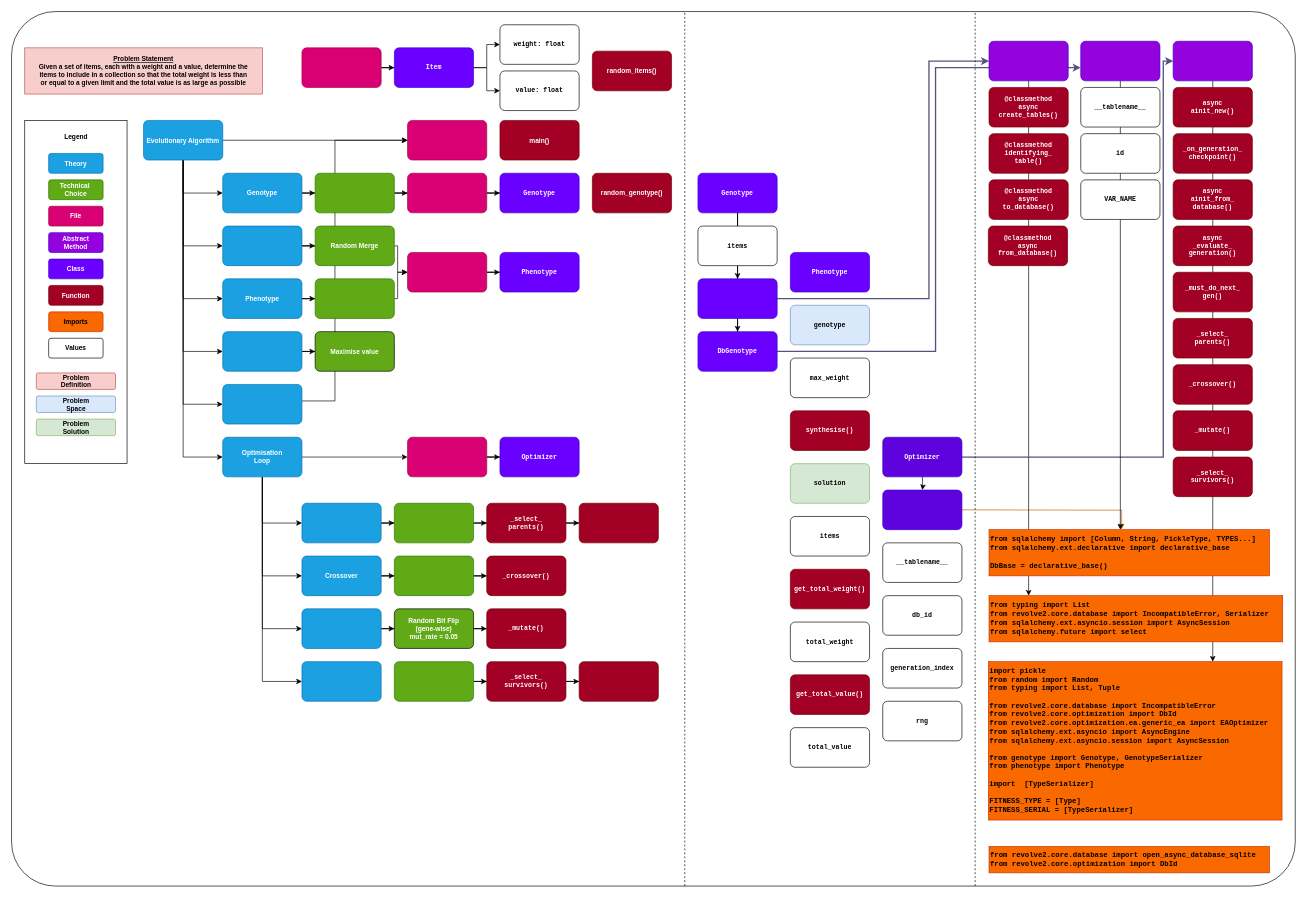
The diagram is 1307 pixels wide and 898 high, and some of its shapes have lost their labels. Here are the shapes that lost their labels. From the top down, the centre of each, then its label:
At point 341,67: "item.py".
At point 1028,61: "Serializer".
At point 1120,61: "DbBase".
At point 1212,61: "EAOptimizer".
At point 447,140: "main.py".
At point 354,193: "Binary String".
At point 447,193: "genotype.py".
At point 262,245: "Synthesizer".
At point 447,272: "phenotype.py".
At point 354,298: "Binary String + Weight Restriction".
At point 737,298: "GenotypeSerializer".
At point 262,351: "Fitness Function".
At point 262,404: "Initial Population Generation".
At point 447,457: "optimzer.py".
At point 341,523: "Parent Selection".
At point 434,523: "2-Tournament".
At point 618,523: "select_parents_ tournament()".
At point 922,509: "DbOptimizerState".
At point 434,575: "Uniform Crossover".
At point 341,628: "Mutation".
At point 341,681: "Survivor Selection".
At point 434,681: "( μ + λ) & 2-Tournament".
At point 618,681: "select_survivors_ tournament()".
